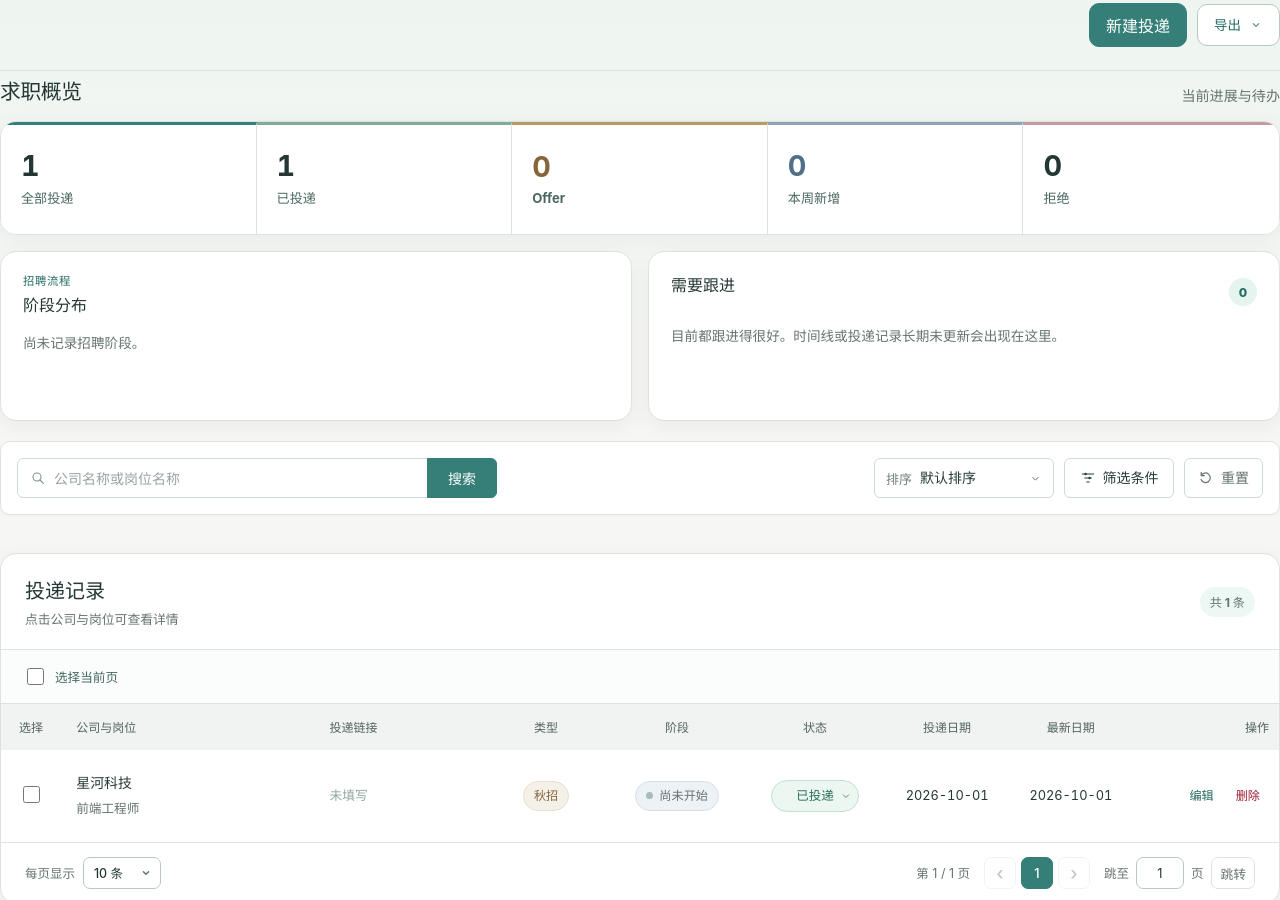
Scenario: keeps a row after a rejected status change and displays the conflict
The image size is (1280, 900).
Step 1. Select "Offer" in the dropdown named "更新 星河科技 前端工程师 的状态" → (815, 796), box [771,780,859,812]
(page scrolled)
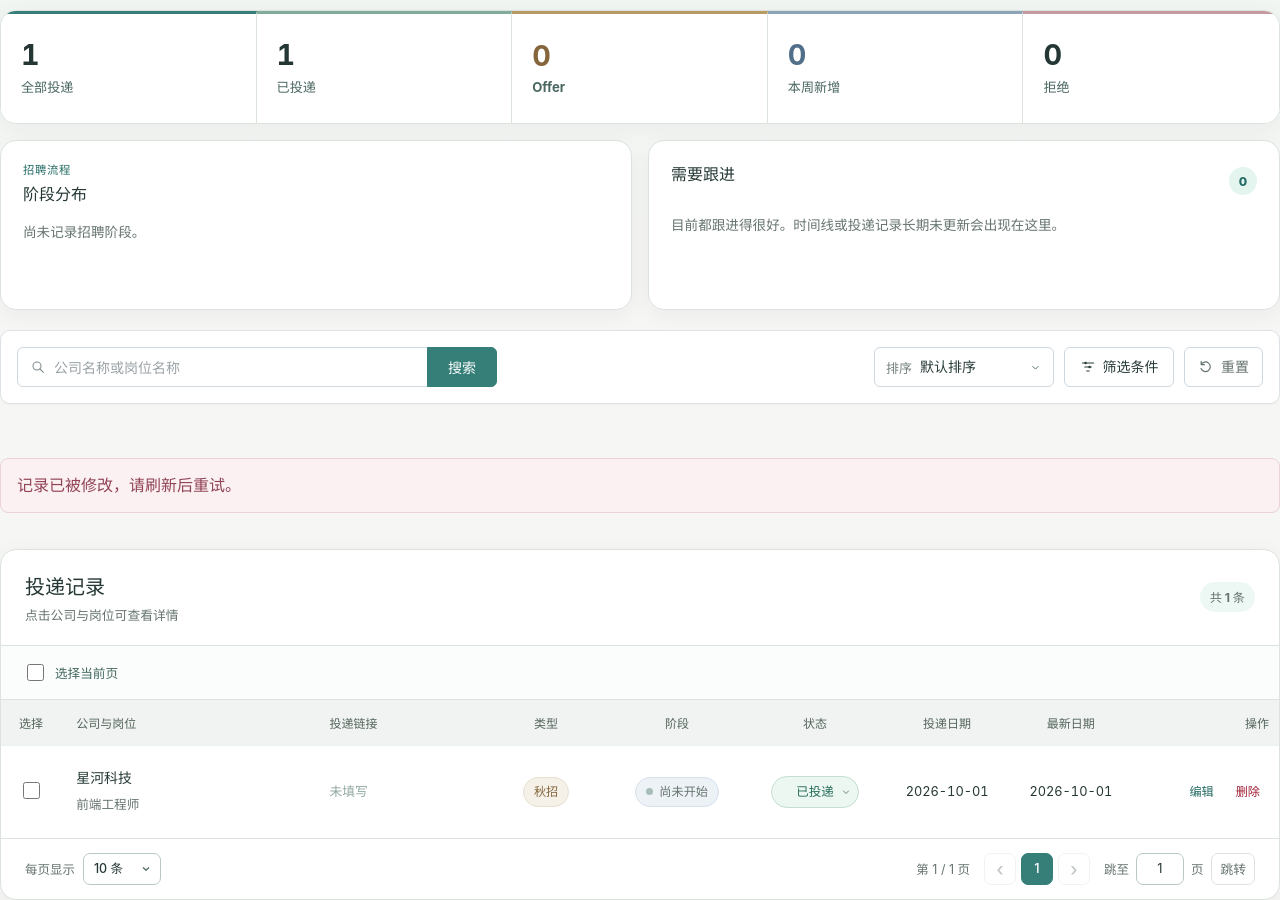
Now the message shows "记录已被修改", box [17,475,241,495]
